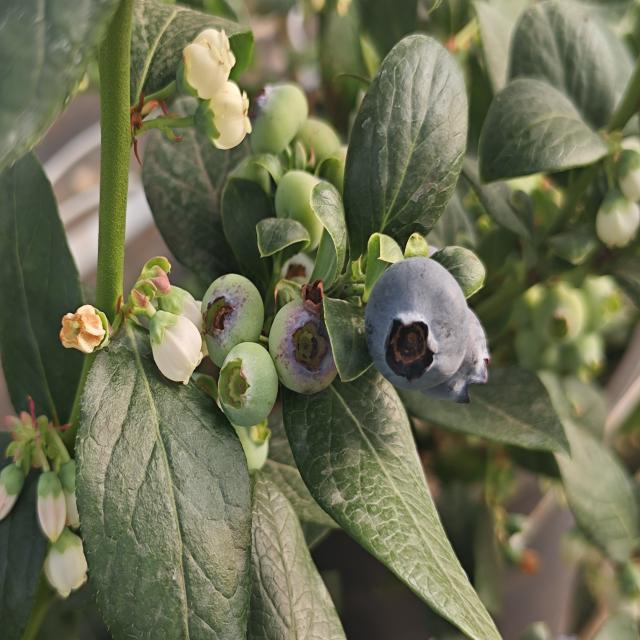ripe: (366, 247, 469, 393), (424, 298, 492, 408)
